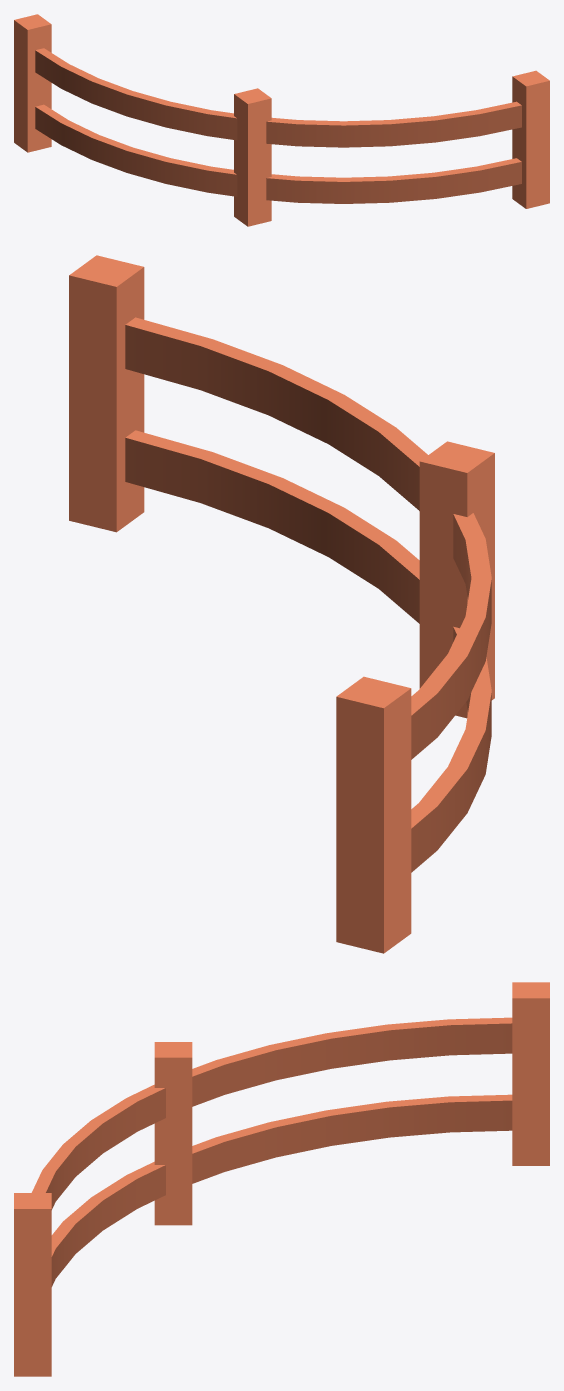
The model's file is fence_bendCenter.obj.
3 views of the same model, one above another, from view 1: azimuth 30°, elevation 25°; view 2: azimuth 150°, elevation 25°; view 3: azimuth 270°, elevation 25° (orthographic). The views are drawn at different scales.
Parts seen in each view (by area): view 1: fence_bendCenter; view 2: fence_bendCenter; view 3: fence_bendCenter.
Part boxes in pixels (x1,y1,x2,y2): fence_bendCenter: (14, 14, 549, 226); fence_bendCenter: (69, 255, 494, 953); fence_bendCenter: (14, 982, 549, 1376).
Size of the model in its own units: 1 by 0.345 by 1.
